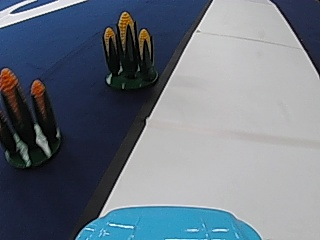corn: (1, 71, 64, 169), (99, 7, 160, 90)
